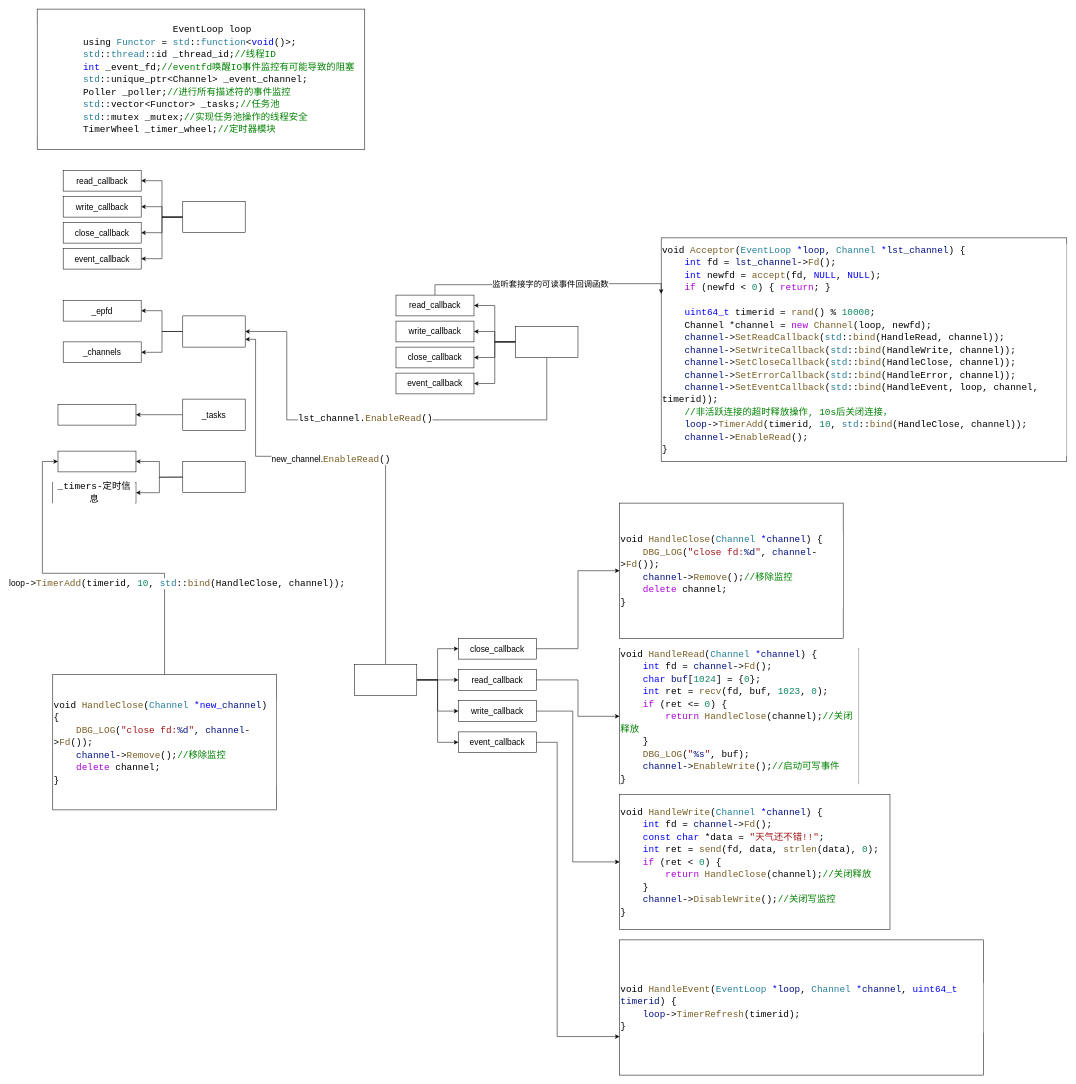
This 1076x1084 diagram has some shape labels left out. The shapes that lost their labels are listed below. From the top down, each one's centre as x and y in pixels, then its label:
At point (213, 217): "_event_channel".
At point (213, 331): "_poller".
At point (546, 342): "lst_channel".
At point (96, 414): "vector<Functor>".
At point (96, 461): "_wheel-定时任务".
At point (213, 477): "_timer_wheel".
At point (385, 680): "new_channel".
